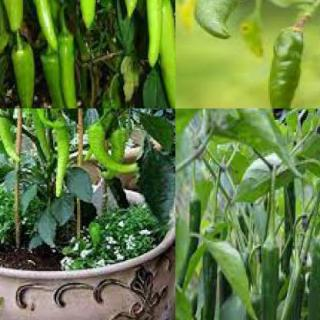green_chilli: (265, 33, 312, 108), (80, 120, 145, 174), (128, 0, 167, 68), (175, 195, 202, 290), (16, 0, 63, 48), (190, 0, 247, 38), (57, 32, 81, 108), (10, 40, 36, 108), (158, 0, 174, 108), (261, 240, 280, 319), (39, 48, 64, 108), (102, 126, 130, 178), (55, 115, 72, 199), (281, 187, 297, 276), (28, 109, 52, 166), (0, 116, 24, 163), (306, 237, 319, 319), (281, 274, 302, 319), (203, 251, 215, 319), (35, 108, 70, 130), (0, 0, 24, 32), (120, 0, 147, 22), (242, 293, 263, 319)
